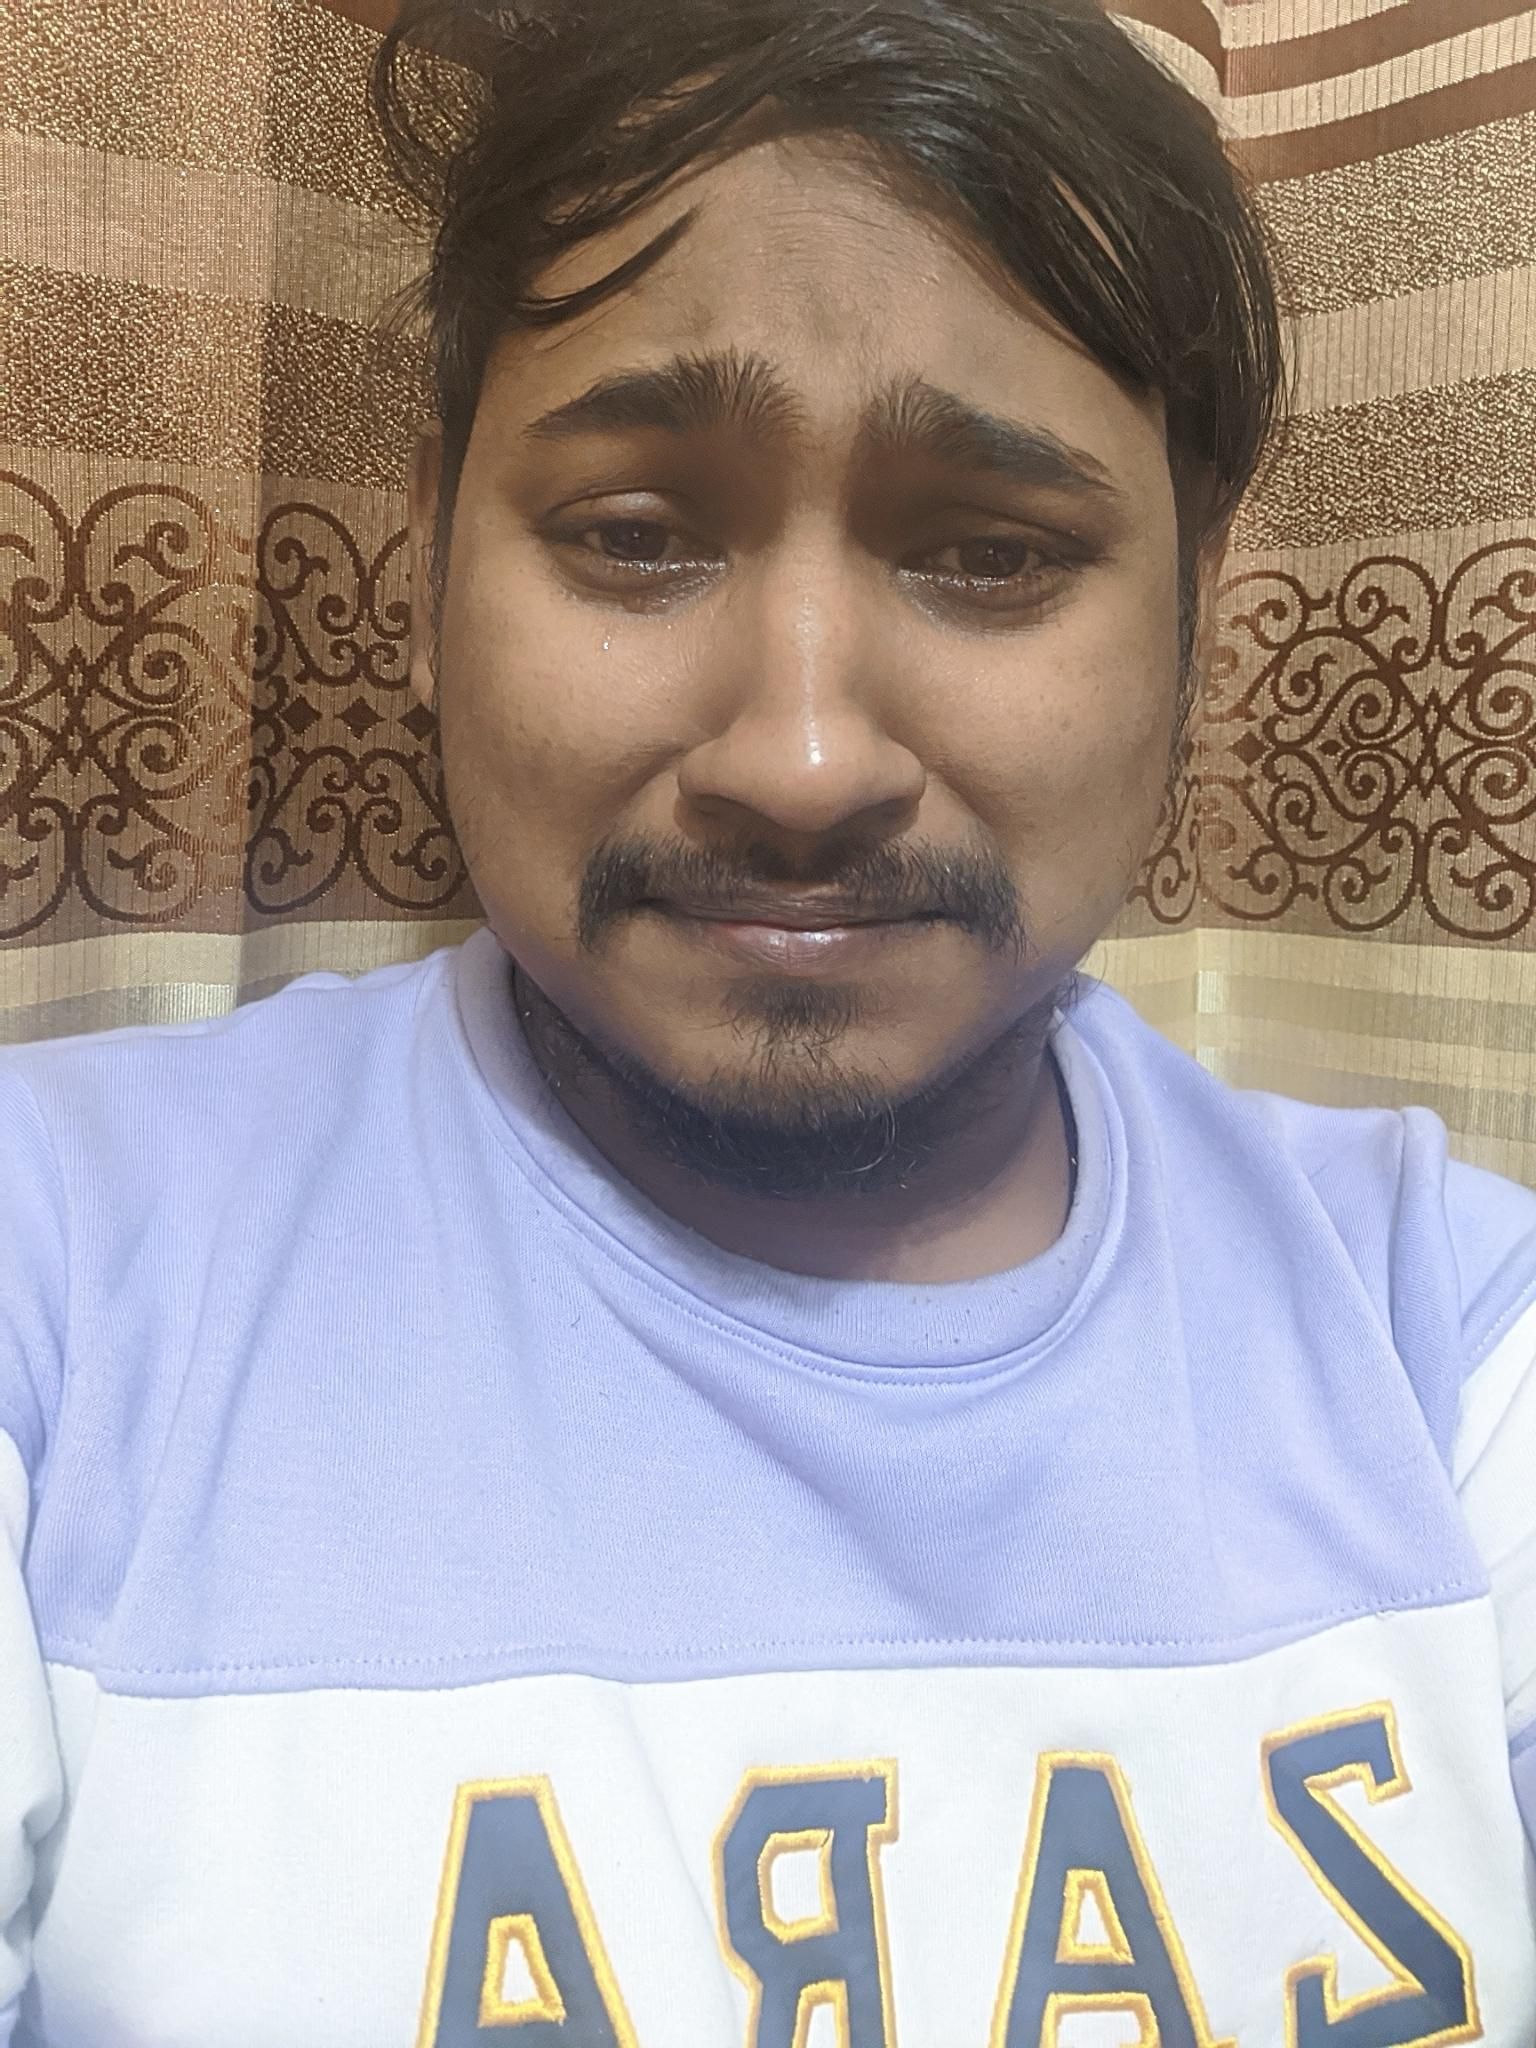Sad: (450, 282, 1197, 1095)
